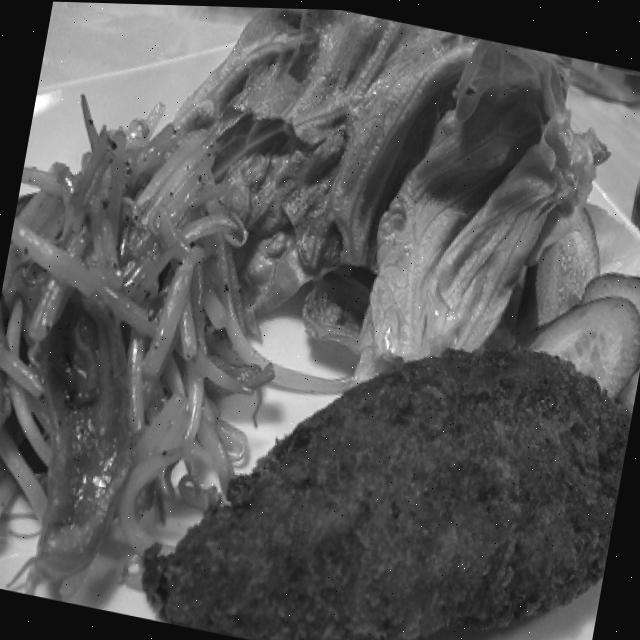炸货点心: (105, 241, 640, 640)
熟制海鲜: (105, 241, 640, 640)
